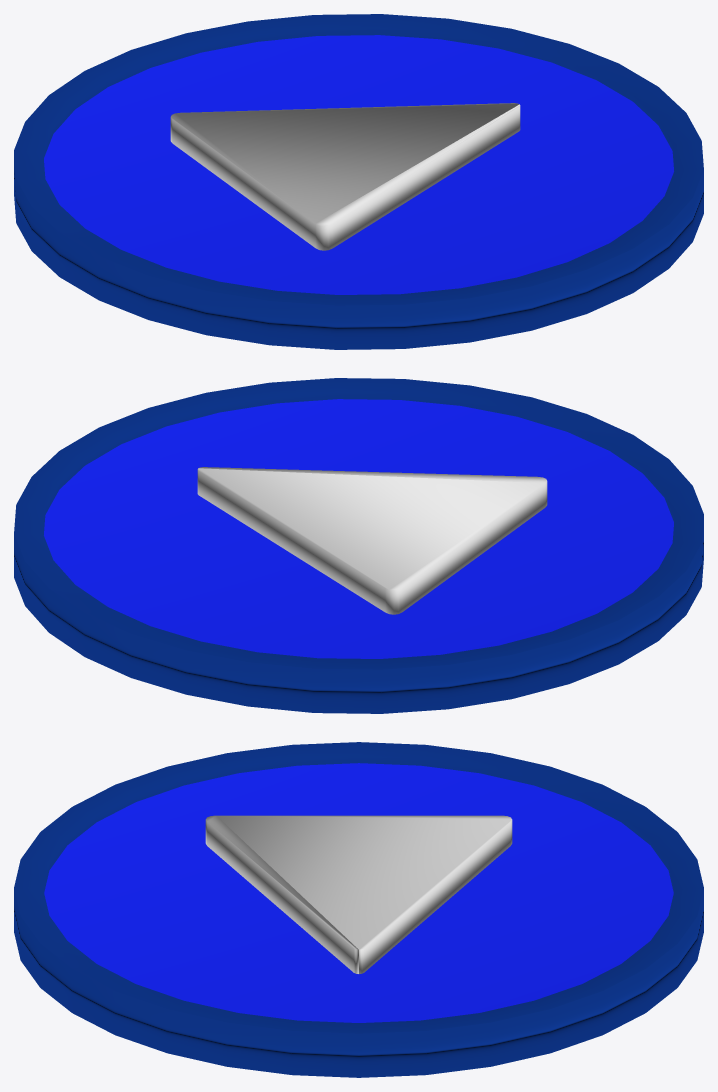
File: PLAY_BUTTON.glb
The picture shows the model from 3 angles, top to bottom: view 1: azimuth 30°, elevation 25°; view 2: azimuth 150°, elevation 25°; view 3: azimuth 270°, elevation 25°; orthographic projection.
Parts seen in each view (by area): view 1: Cylinder, Cube; view 2: Cylinder, Cube; view 3: Cylinder, Cube.
Part boxes in pixels (x1=…): Cylinder: x1=14, y1=14, x2=703, y2=349; Cube: x1=170, y1=103, x2=520, y2=250; Cylinder: x1=14, y1=378, x2=703, y2=713; Cube: x1=197, y1=467, x2=547, y2=614; Cylinder: x1=14, y1=742, x2=703, y2=1077; Cube: x1=205, y1=815, x2=512, y2=973.
Size of the model in its own units: 2 by 0.2408 by 2.
